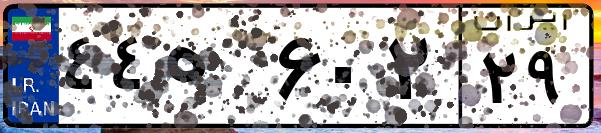0: (330, 28, 385, 110)
2: (385, 28, 445, 110), (475, 38, 525, 113)
4: (57, 26, 110, 100), (110, 28, 158, 98)
6: (270, 28, 330, 110)
9: (525, 38, 570, 115)
ه: (158, 20, 270, 120)
